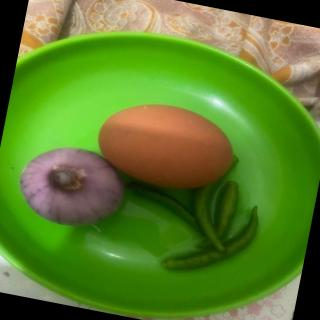Telur: (91, 93, 244, 202)
